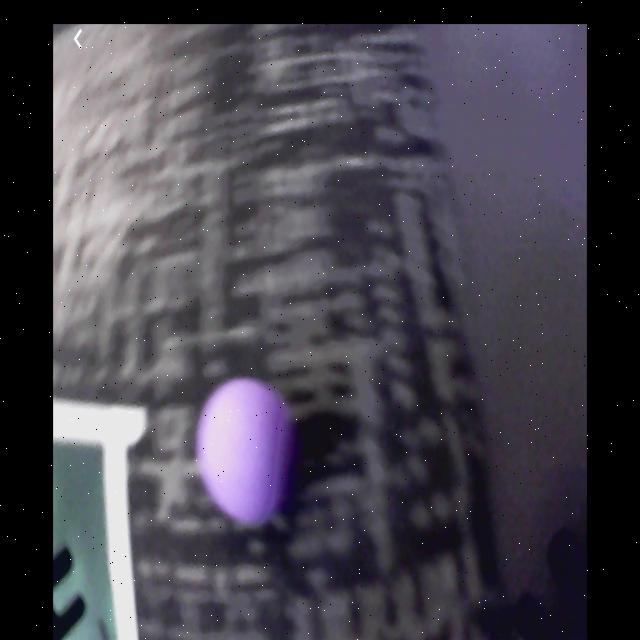ball: (194, 372, 298, 536)
